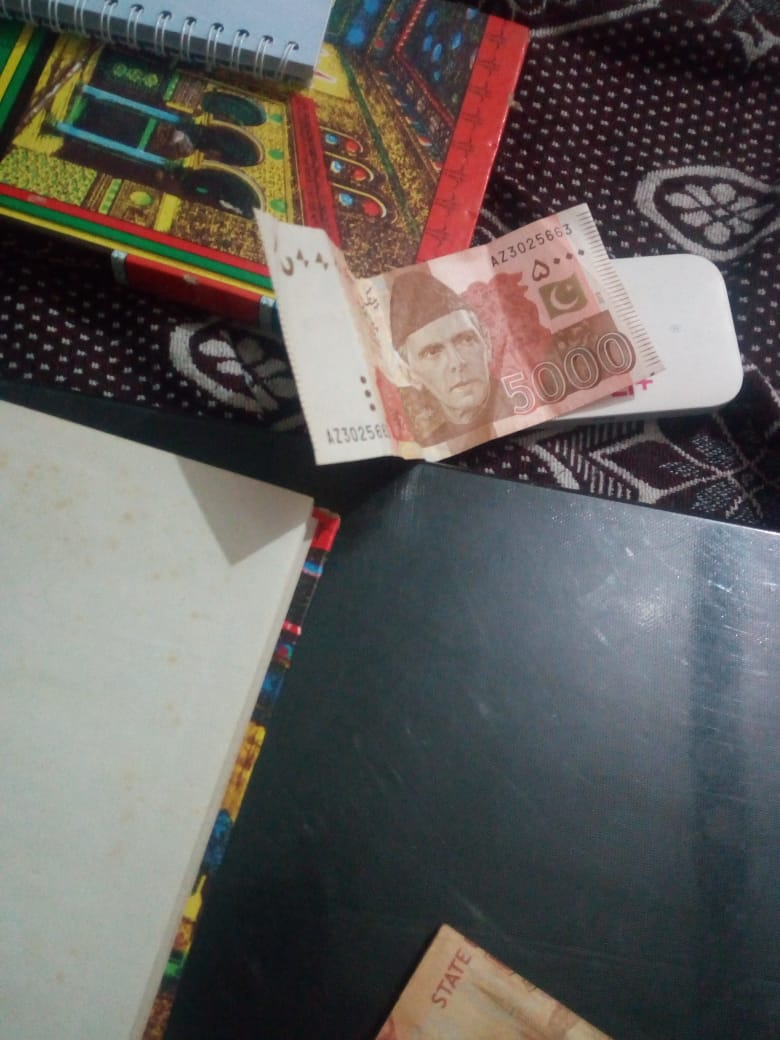5000 rupee: (244, 181, 664, 524)
